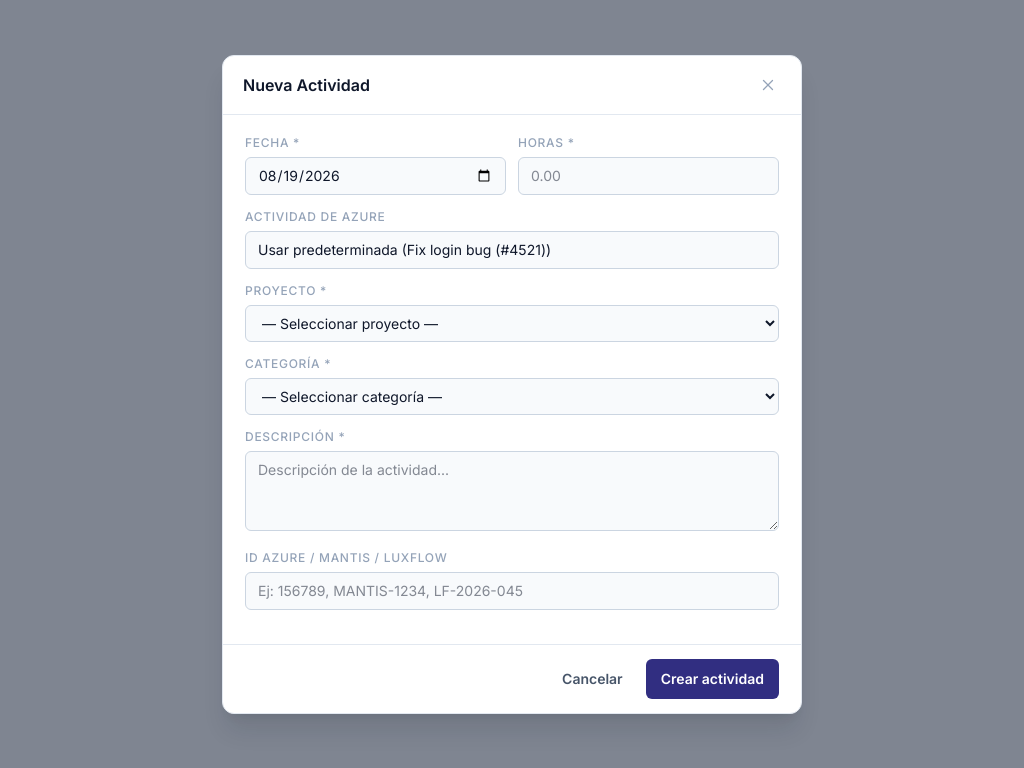
Scenario: NewActivityModal project/category autofill › leaves project and category blank on open, blocking submission until a mapped work item is picked
Expected: the dropdown named "Proyecto *" shows "— Seleccionar proyecto —", [245,304,779,342]
Expected: the dropdown named "Categoría *" shows "— Seleccionar categoría —", [245,378,779,414]
Type "2" into the number field with placeholder "0.00" at (648,176), box [518,156,779,194]
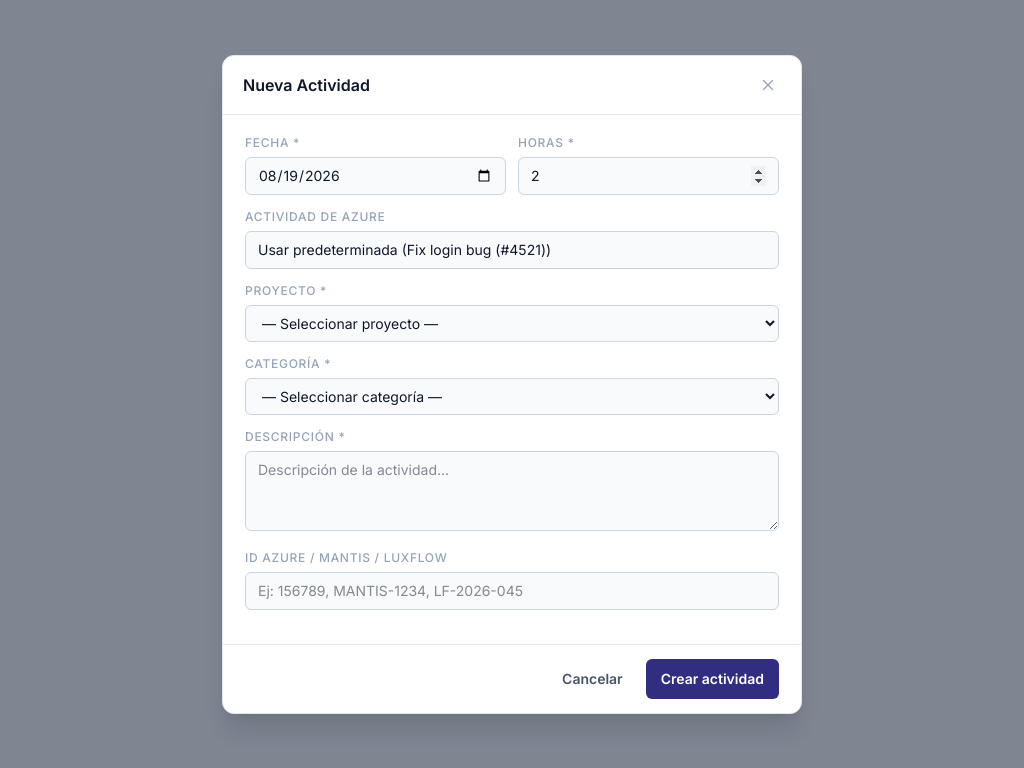
Type "Trabajo de prueba" into the text box with placeholder "Descripción de la actividad..." at (512,490), box [245,450,779,530]
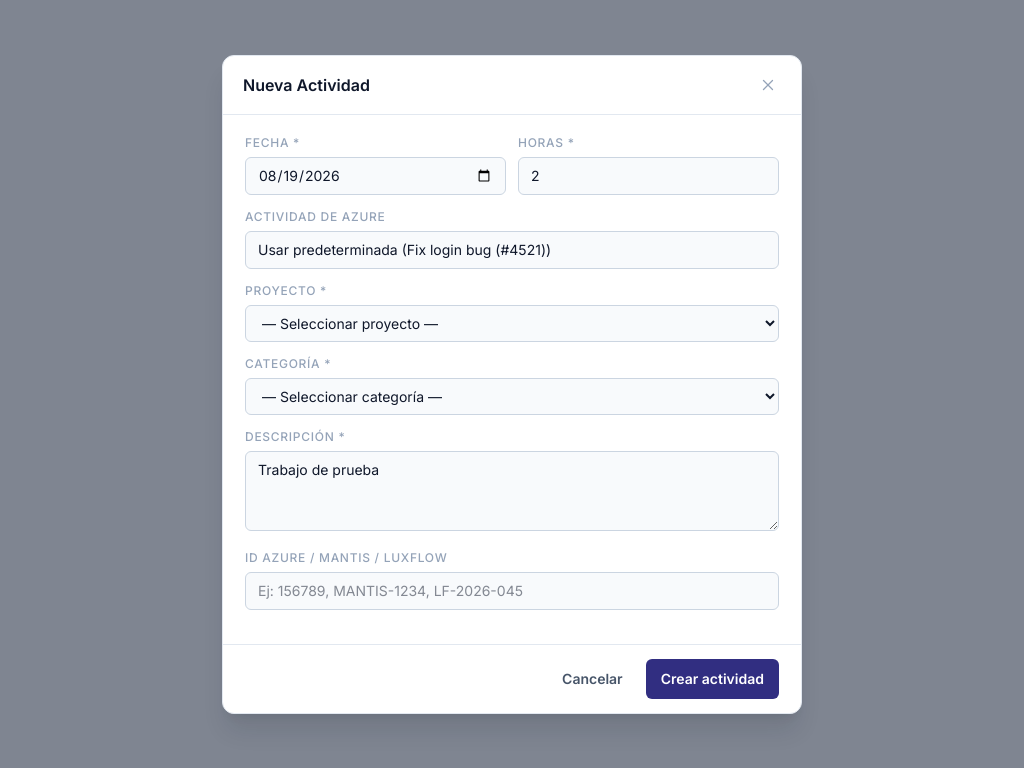
Click the button "Crear actividad" at (712,678), box [646,658,779,698]
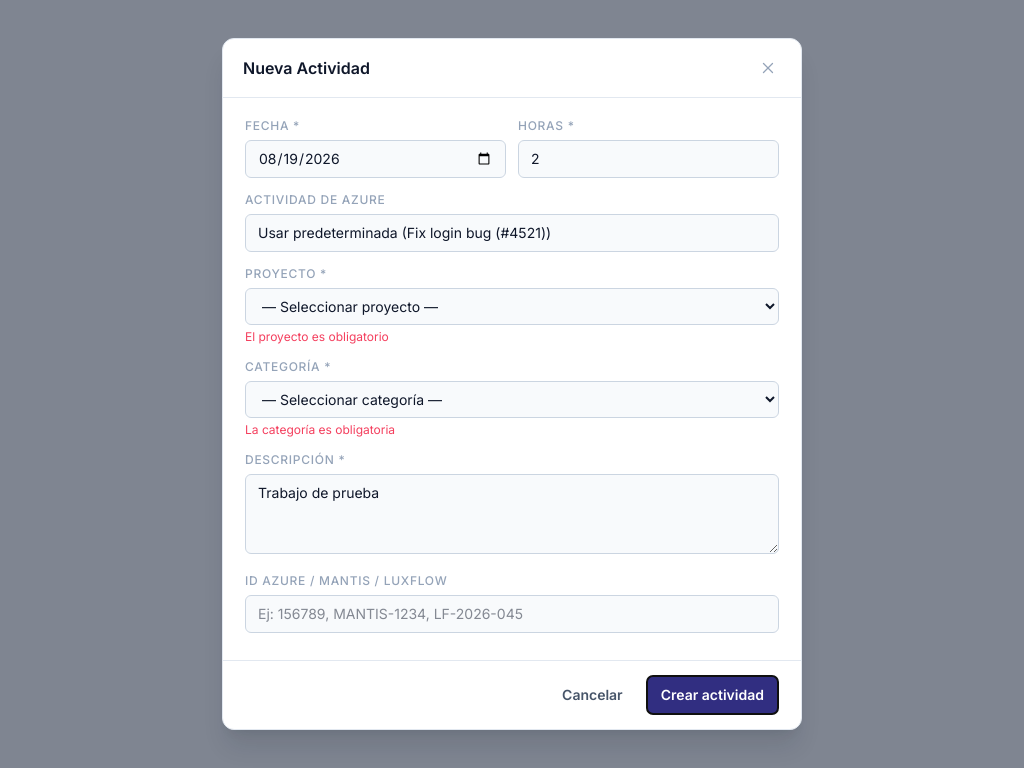
Result: the text "El proyecto es obligatorio" is shown at [245,329,389,344]
Result: the text "La categoría es obligatoria" is shown at [245,422,395,437]
